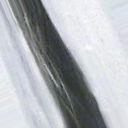crackTip: (3, 1, 111, 128)
